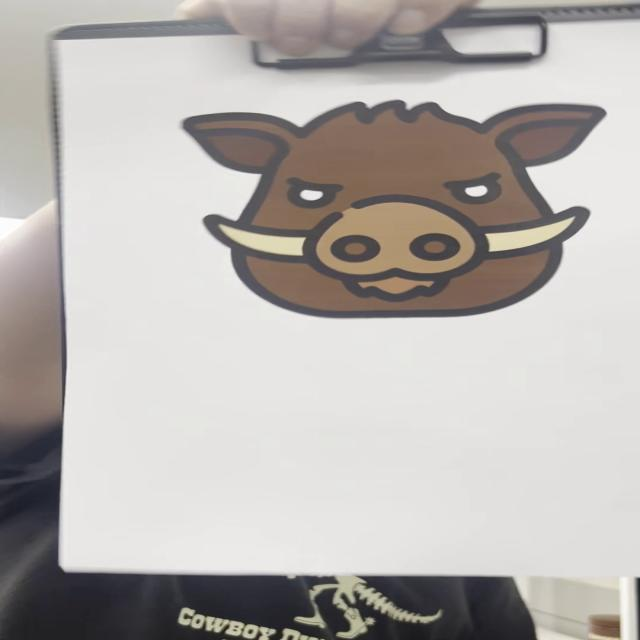animal: (175, 99, 612, 321)
